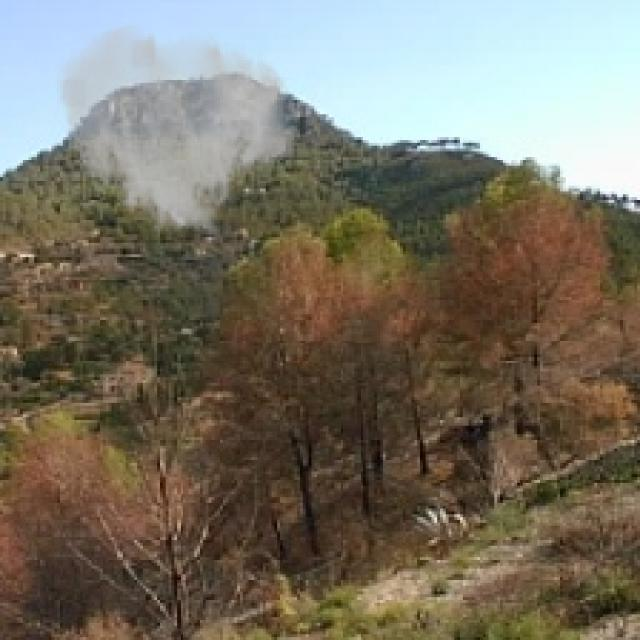Smoke: (54, 23, 300, 243)
